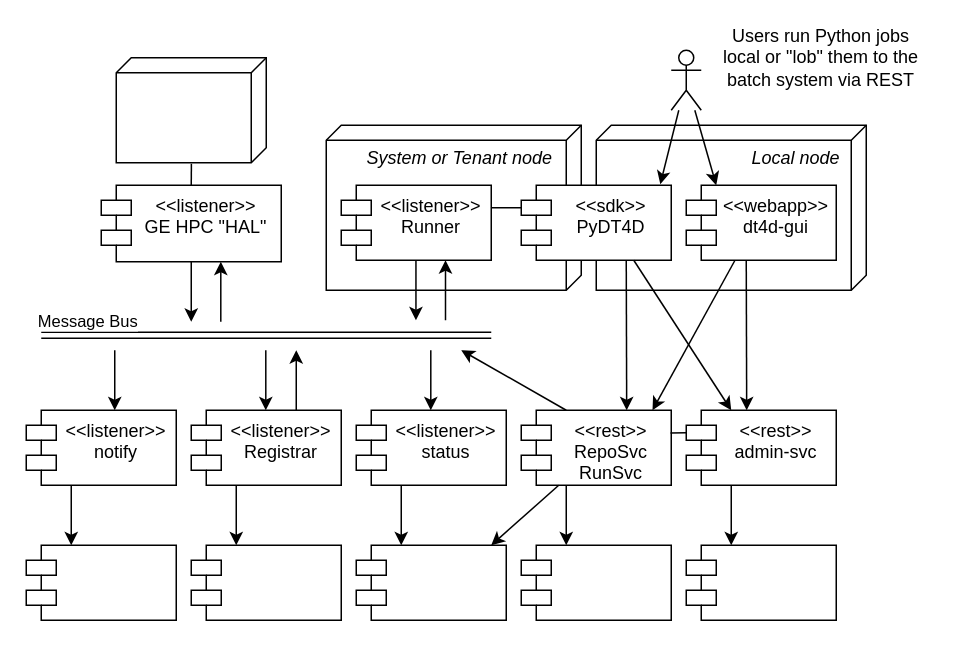
The diagram is 953 pixels wide and 647 high, and some of its shapes have lost their labels. The centre of each missing label's shape, as x and y in pixels:
Elastic "MetaRepo" "RunRepo": [430,582]
GE HPC(s): [190,109]
GE IDM: [760,582]
GE SMTP: [100,582]
Postgres: [265,582]
S3 "SimRepo" "ToolRepo": [595,582]
